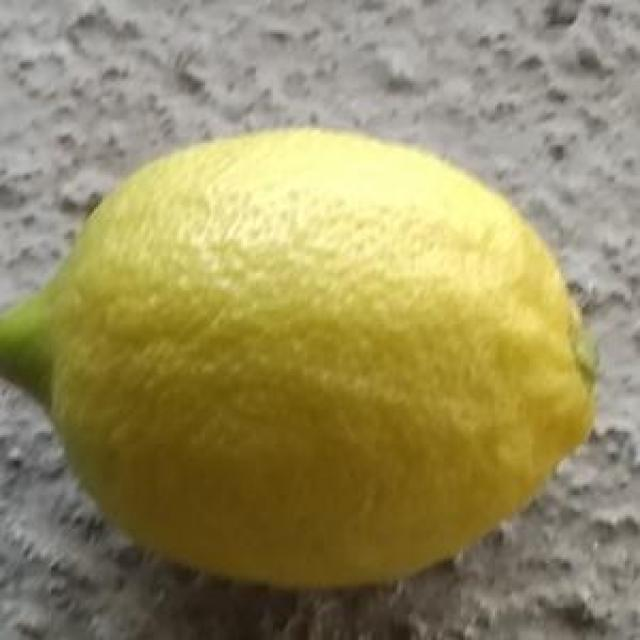lemon: (2, 124, 596, 588)
